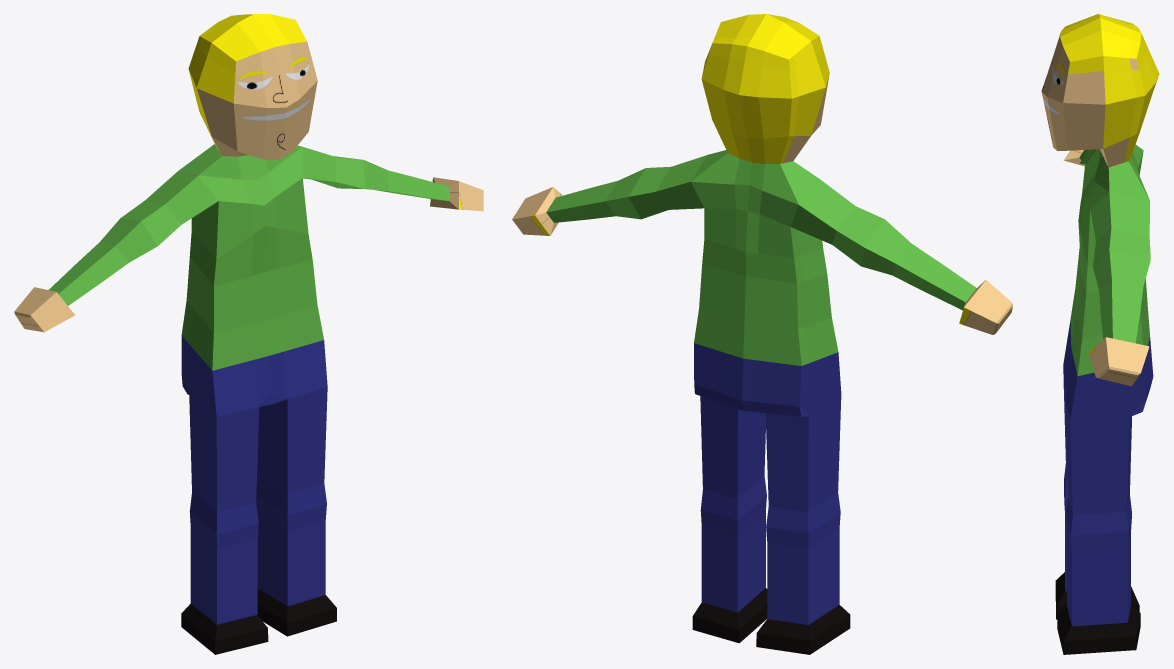
The model's file is NPC1Atlas.fbx.
The picture shows the model from 3 angles, left to right: view 1: azimuth 30°, elevation 25°; view 2: azimuth 150°, elevation 25°; view 3: azimuth 270°, elevation 25°; orthographic projection.
Visible parts, largest first — view 1: npc; view 2: npc; view 3: npc.
Part boxes in pixels (bbox=[...]): npc: bbox=[14, 14, 483, 654]; npc: bbox=[512, 14, 1012, 654]; npc: bbox=[1041, 14, 1159, 654].
Bounding box in the file's own units: 621 × 772 × 136.
